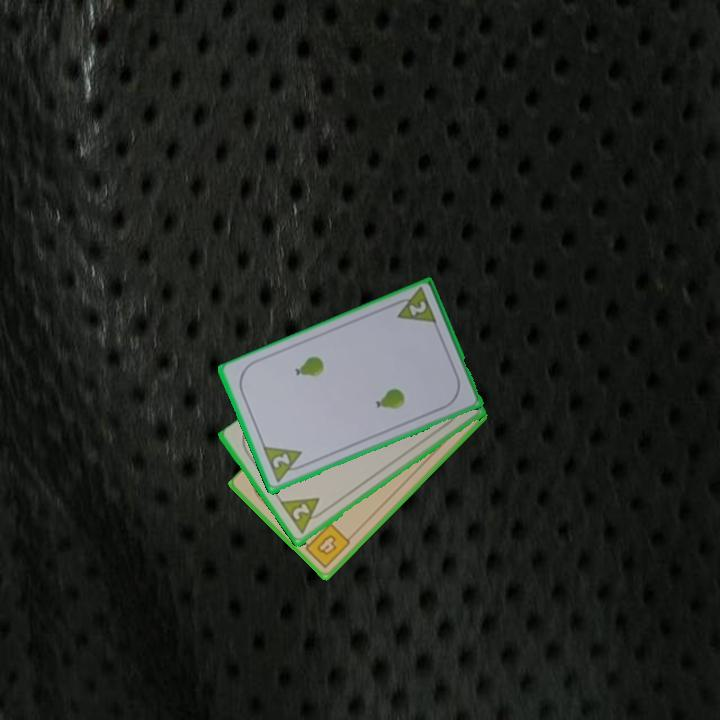2p: (277, 494, 330, 537), (388, 285, 440, 328), (259, 443, 310, 486)
4b: (298, 519, 353, 571)
